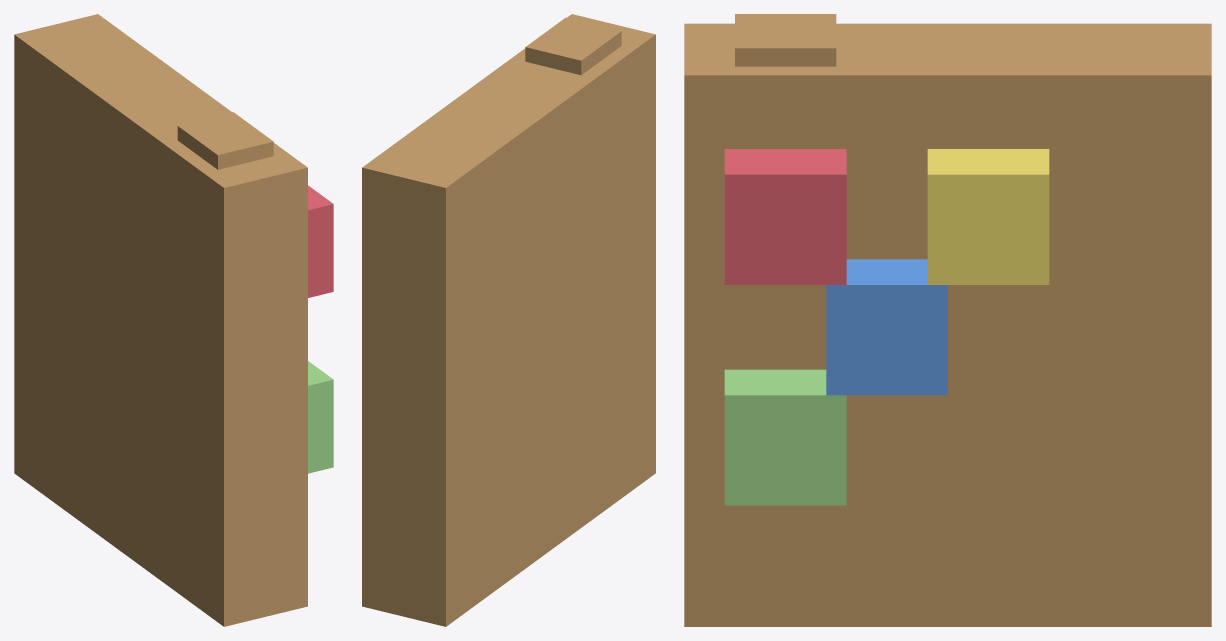
The model's file is paleta_tinta.glb.
3 renders of one model, left to right at view 1: azimuth 30°, elevation 25°; view 2: azimuth 150°, elevation 25°; view 3: azimuth 270°, elevation 25°, orthographic. The views are drawn at different scales.
Visible parts, largest first — view 1: paleta_tinta; view 2: paleta_tinta; view 3: paleta_tinta.
Boxes of the visible parts, x1,y1,x2,y2 form: paleta_tinta: (14,14,333,626); paleta_tinta: (362,14,655,626); paleta_tinta: (684,14,1211,626).
Bounding box in the file's own units: 0.09 × 0.31 × 0.26.
